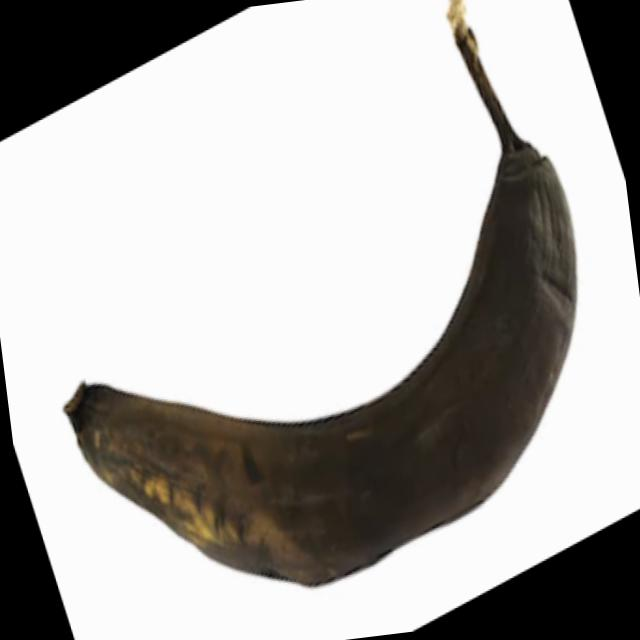Rotten: (6, 0, 623, 632)
